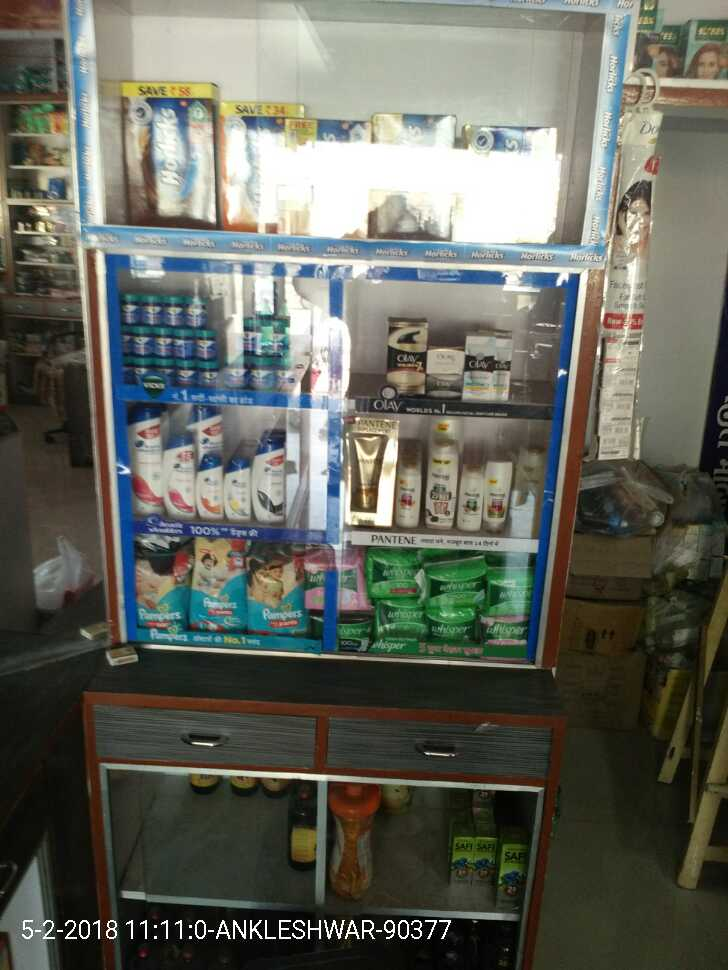beauty: (348, 420, 392, 527), (130, 407, 164, 517), (248, 432, 287, 525), (424, 435, 458, 535), (383, 314, 420, 396), (162, 432, 196, 519), (482, 456, 511, 537), (465, 335, 497, 398), (192, 452, 222, 519), (424, 348, 461, 401), (395, 459, 423, 529), (224, 454, 249, 521), (456, 469, 481, 532), (496, 332, 514, 397)
pharmacy: (192, 539, 253, 633), (248, 560, 306, 635), (137, 554, 194, 629), (365, 549, 425, 599), (427, 559, 487, 604), (427, 602, 478, 653), (375, 600, 431, 640), (487, 571, 531, 611), (480, 611, 527, 648)
